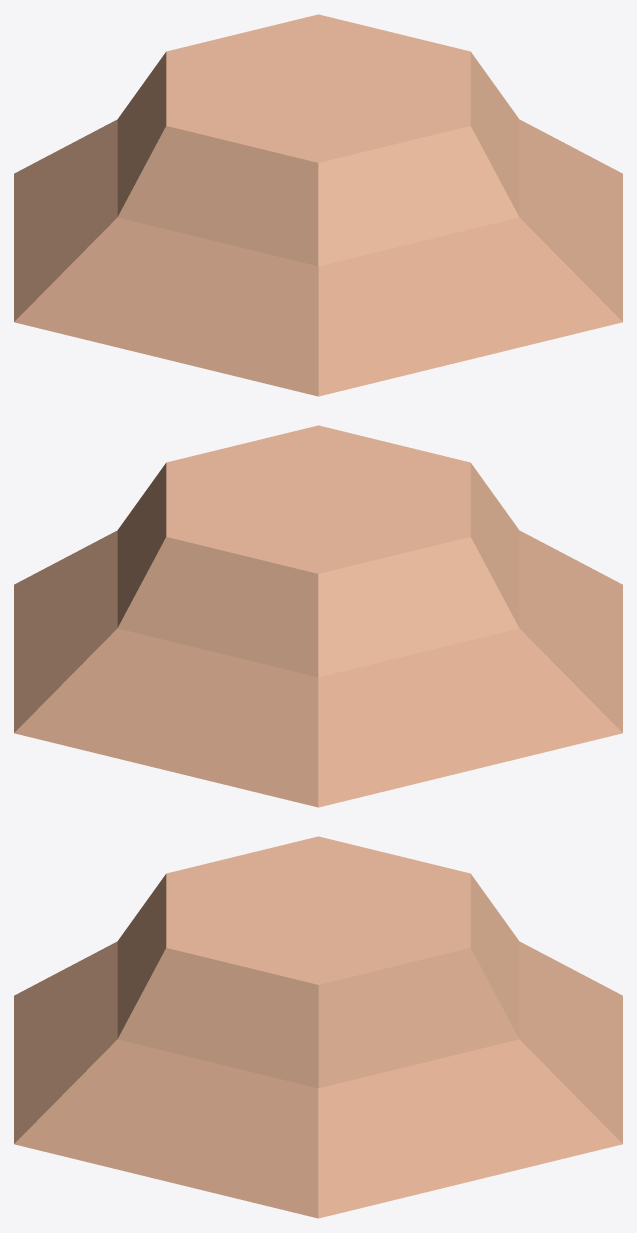
Rendered from crops_dirtSingle.glb.
3 views of the same model, one above another, from view 1: azimuth 30°, elevation 25°; view 2: azimuth 150°, elevation 25°; view 3: azimuth 270°, elevation 25° (orthographic).
Visible parts, largest first — view 1: crops_dirtSingle; view 2: crops_dirtSingle; view 3: crops_dirtSingle.
Part boxes in pixels (bbox=[...]): crops_dirtSingle: bbox=[14, 14, 622, 396]; crops_dirtSingle: bbox=[14, 425, 622, 807]; crops_dirtSingle: bbox=[14, 836, 622, 1218].
Size of the model in its own units: 0.4646 by 0.1162 by 0.4024.
